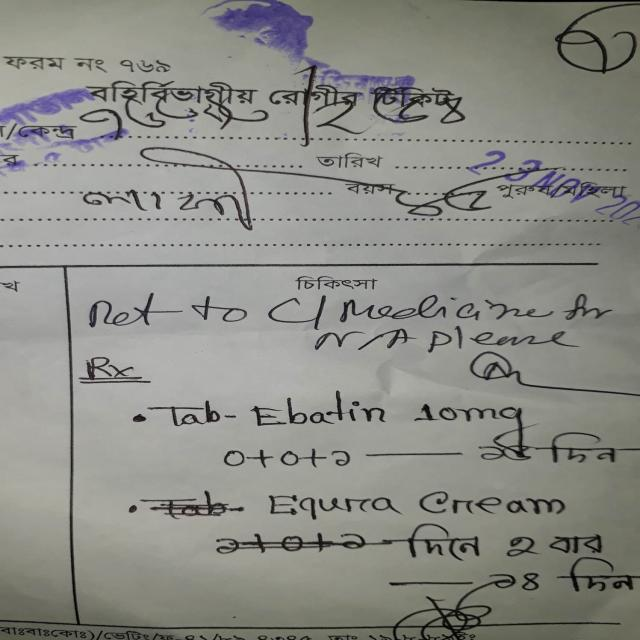Ebatin: (243, 398, 396, 431)
Equra: (263, 491, 406, 519)
